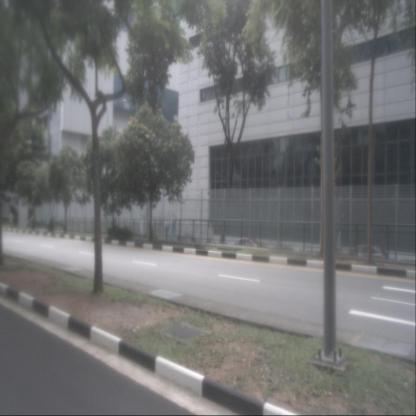vehicle-car: (340, 244, 388, 276), (226, 237, 266, 261)
